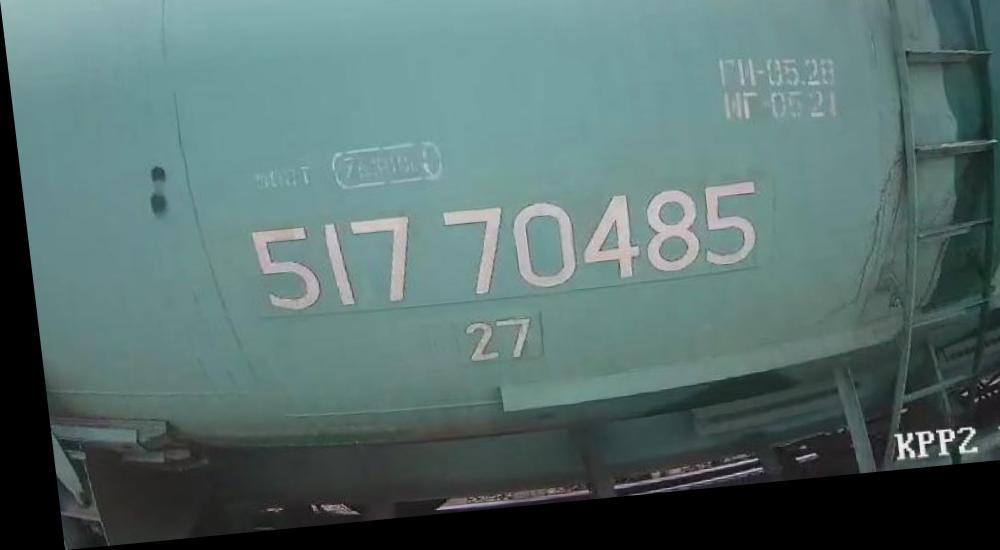Wagon-number: (240, 187, 765, 326)
